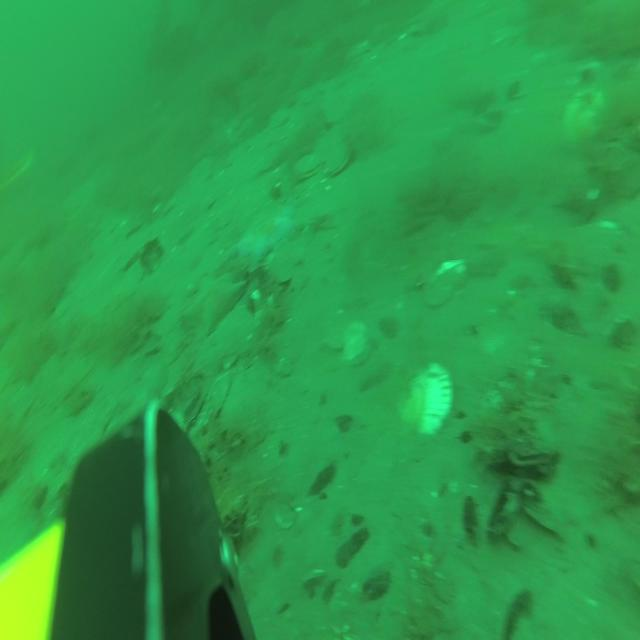scallop: (401, 362, 451, 434), (422, 259, 464, 306), (565, 90, 601, 138), (346, 323, 368, 370), (326, 136, 350, 176), (293, 152, 320, 179)
starfish: (185, 276, 246, 336), (235, 208, 298, 264)
